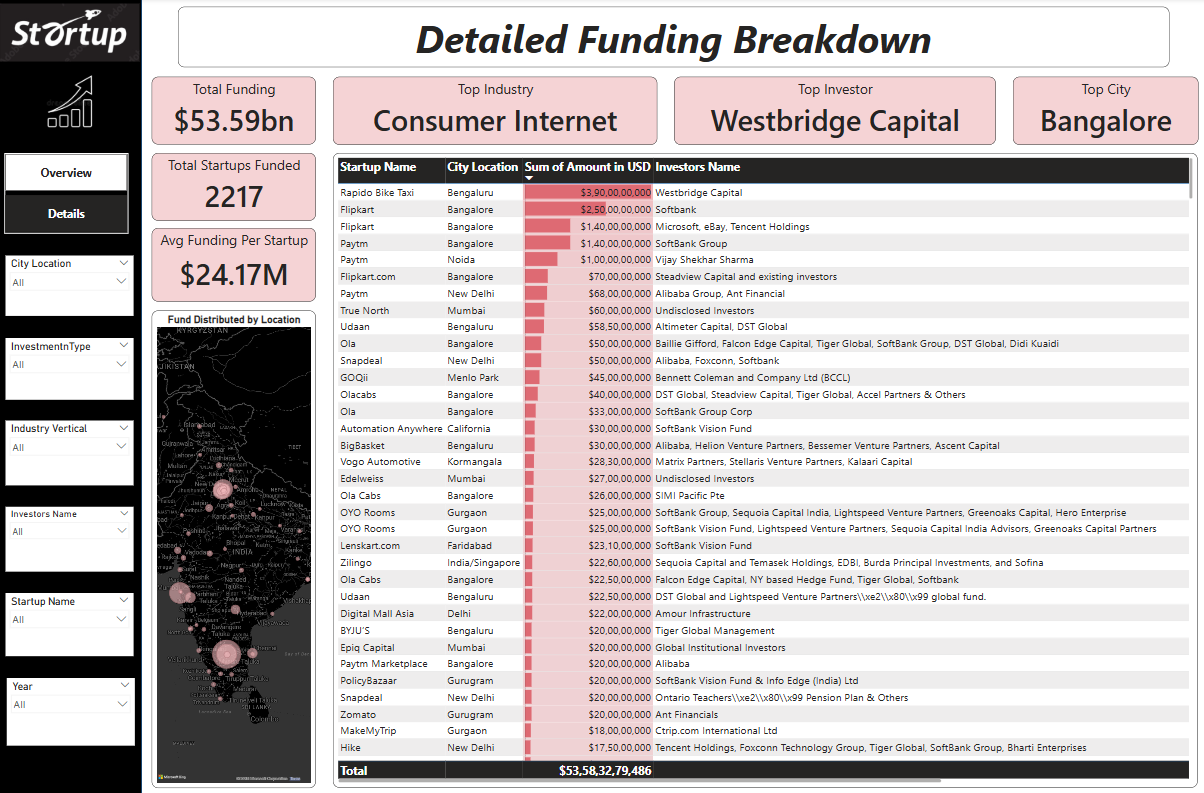

The dashboard page shown, as its layout file describes it:
{"tool":"powerbi","page":{"name":"Details","canvas":[2800,1850],"ordinal":1},"visuals":[{"type":"shape","box":[0,0,333.3,1850],"z":0},{"type":"card","title":"Avg Funding Per Startup","fields":{"Values":["startup_funding.Avg Funding Per Startup"]},"box":[356.7,533.9,380,170],"z":1000},{"type":"card","title":"Top Industry","fields":{"Values":["startup_funding.Top Industry"]},"box":[776.4,181.1,751.1,157.8],"z":2000},{"type":"card","title":"Top City","fields":{"Values":["startup_funding.Top City"]},"box":[2351.3,181.1,429.2,157.8],"z":3000},{"type":"card","title":"Top Investor","fields":{"Values":["startup_funding.Top Investor"]},"box":[1565.4,181.1,744.8,157.8],"z":4000},{"type":"card","title":"Total Startups Funded","fields":{"Values":["startup_funding.Total Startups Funded"]},"box":[356.7,357.8,380,156.7],"z":5000},{"type":"card","title":"Total Funding","fields":{"Values":["startup_funding.Total Funding"]},"box":[356.7,181.7,380,156.7],"z":6000},{"type":"map","title":"Fund Distributed by Location","fields":{"Category":["startup_funding.City Location"],"Size":["startup_funding.Amount in USD"]},"box":[356.7,723.3,380,1106.7],"z":7000},{"type":"pageNavigator","box":[15.8,358.7,288,187.5],"z":8000},{"type":"slicer","fields":{"Values":["startup_funding.City Location"]},"box":[16.7,596.3,296.7,140],"z":9000},{"type":"slicer","fields":{"Values":["startup_funding.InvestmentnType"]},"box":[16.7,786.4,296.7,143.3],"z":10000},{"type":"slicer","fields":{"Values":["startup_funding.Industry Vertical"]},"box":[16.7,979.8,296.7,150],"z":11000},{"type":"slicer","fields":{"Values":["startup_funding.Investors Name"]},"box":[16.7,1179.8,296.7,150],"z":12000},{"type":"slicer","fields":{"Values":["startup_funding.Startup Name"]},"box":[16.7,1379.9,296.7,146.7],"z":13000},{"type":"slicer","fields":{"Values":["startup_funding.Year"]},"box":[20,1576.7,296.7,156.7],"z":14000},{"type":"image","box":[0,0,333.3,160],"z":15000},{"type":"image","box":[16.7,160,300,170],"z":16000},{"type":"textbox","box":[416.7,20,2296.7,140],"z":17000},{"type":"tableEx","fields":{"Values":["startup_funding.Startup Name","startup_funding.City Location","startup_funding.Amount in USD","startup_funding.Investors Name","startup_funding.InvestmentnType"]},"box":[776.7,360,2003.3,1470],"z":18000}]}

Visuals, with their boxes on the page's 2800x1850 design canvas (x1, y1, x2, y2). These are canvas units, not pixel positions in the 1204x793 screenshot, which may show the page scaled, cropped or inside an application window:
shape: box(0, 0, 333, 1850)
"Avg Funding Per Startup" card: box(357, 534, 737, 704)
"Top Industry" card: box(776, 181, 1528, 339)
"Top City" card: box(2351, 181, 2780, 339)
"Top Investor" card: box(1565, 181, 2310, 339)
"Total Startups Funded" card: box(357, 358, 737, 514)
"Total Funding" card: box(357, 182, 737, 338)
"Fund Distributed by Location" map: box(357, 723, 737, 1830)
pageNavigator: box(16, 359, 304, 546)
slicer - startup_funding.City Location: box(17, 596, 313, 736)
slicer - startup_funding.InvestmentnType: box(17, 786, 313, 930)
slicer - startup_funding.Industry Vertical: box(17, 980, 313, 1130)
slicer - startup_funding.Investors Name: box(17, 1180, 313, 1330)
slicer - startup_funding.Startup Name: box(17, 1380, 313, 1527)
slicer - startup_funding.Year: box(20, 1577, 317, 1733)
image: box(0, 0, 333, 160)
image: box(17, 160, 317, 330)
textbox: box(417, 20, 2713, 160)
tableEx - startup_funding.Startup Name x startup_funding.City Location: box(777, 360, 2780, 1830)
